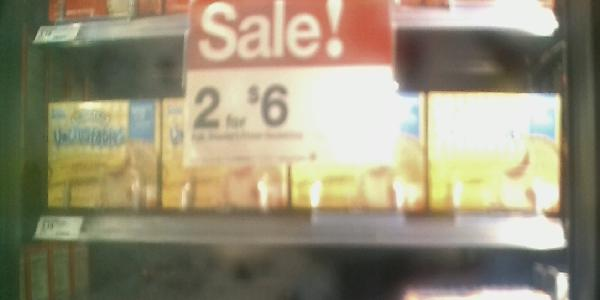icecream: (289, 91, 427, 216), (426, 89, 564, 214), (161, 91, 289, 213), (45, 98, 161, 215)
